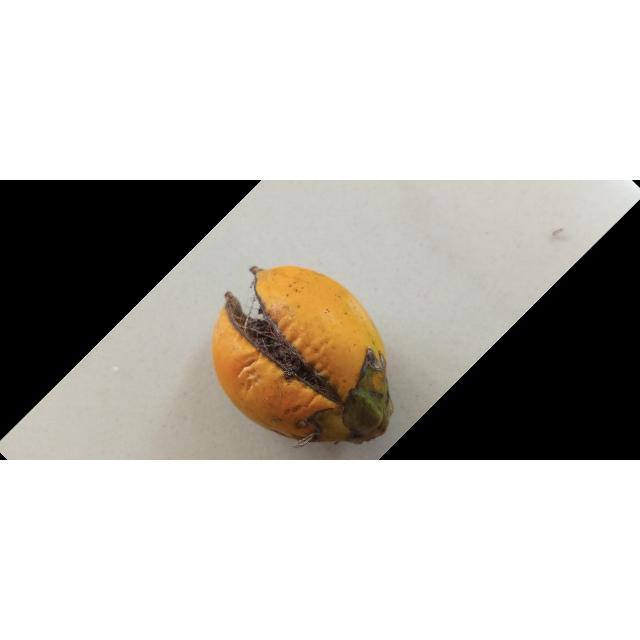damaged: (212, 266, 393, 444)
